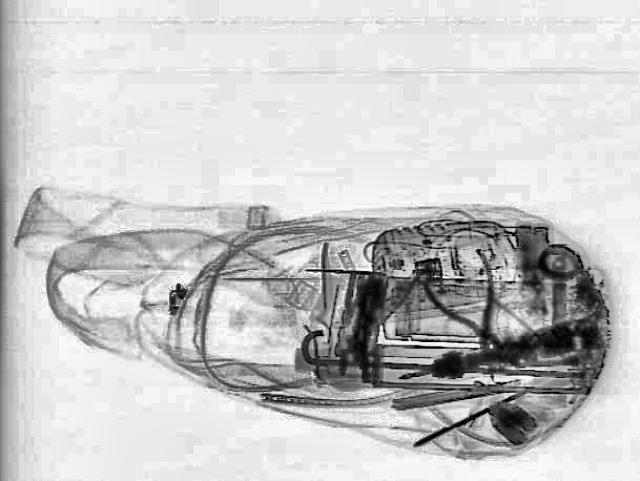Pliers: (410, 248, 524, 362)
